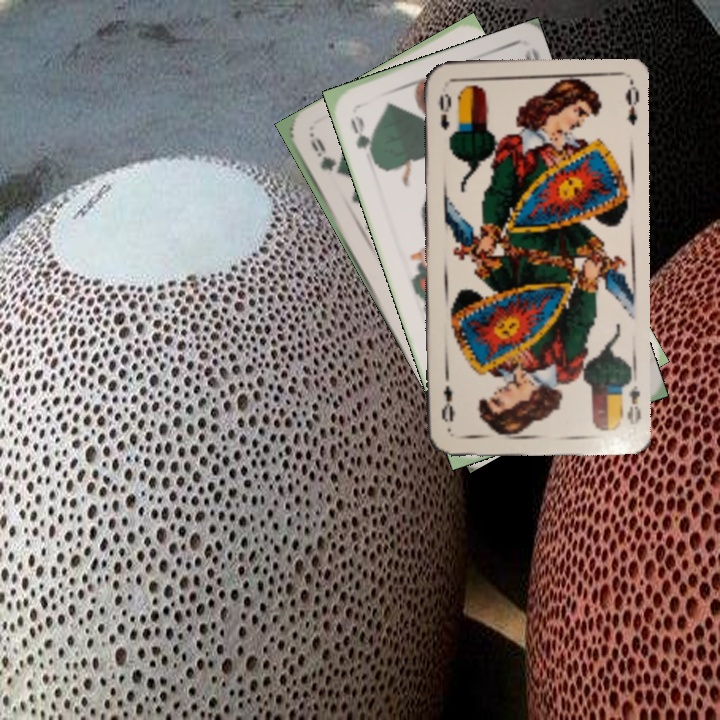EO: (623, 382, 643, 428), (435, 90, 454, 133)
G9: (306, 131, 343, 180)
GO: (346, 111, 377, 163)
